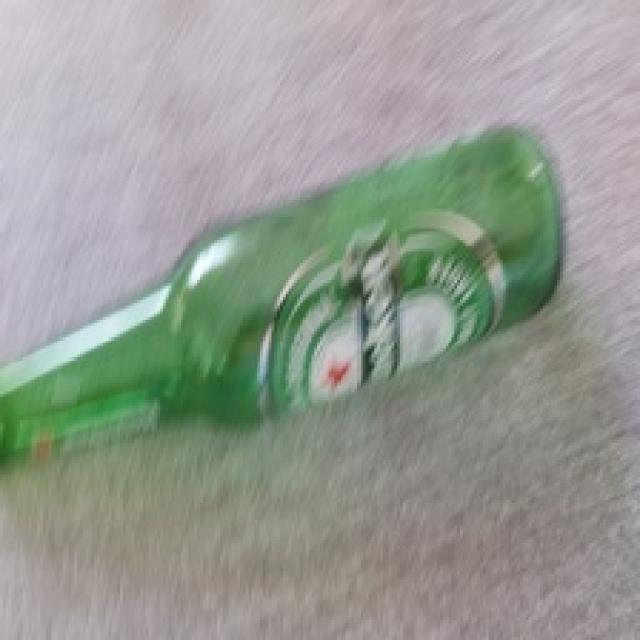Glass: (0, 122, 565, 474)
